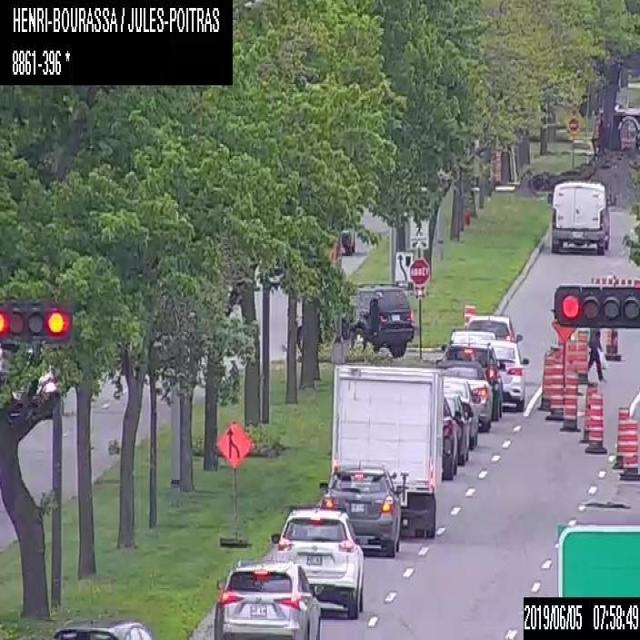construction: (214, 420, 252, 548), (544, 356, 564, 420), (560, 365, 579, 431), (585, 392, 605, 452), (620, 419, 639, 480), (612, 404, 630, 467), (580, 380, 598, 442), (550, 314, 577, 341), (538, 350, 550, 410), (576, 330, 588, 381), (603, 324, 620, 360), (463, 302, 475, 328), (567, 339, 575, 371)
pedestrian: (586, 331, 604, 381)
vehicle: (329, 363, 444, 539), (269, 507, 363, 617), (210, 559, 324, 639), (294, 281, 414, 355), (319, 464, 405, 555), (438, 342, 504, 420), (547, 178, 613, 254), (437, 359, 494, 430), (9, 348, 64, 420), (483, 338, 529, 412), (440, 376, 478, 448), (52, 613, 151, 639), (464, 313, 522, 344), (442, 397, 461, 481), (446, 392, 468, 464), (450, 328, 496, 349), (340, 225, 354, 256)
